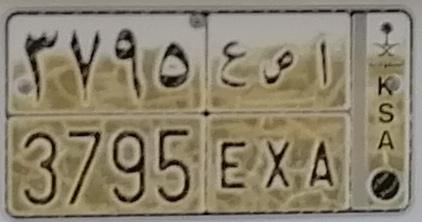3: (20, 30, 62, 206)
5: (152, 42, 195, 203)
7: (65, 30, 102, 206)
9: (111, 28, 145, 203)
A: (308, 41, 336, 187)
E: (218, 40, 248, 191)
X: (261, 47, 298, 191)
